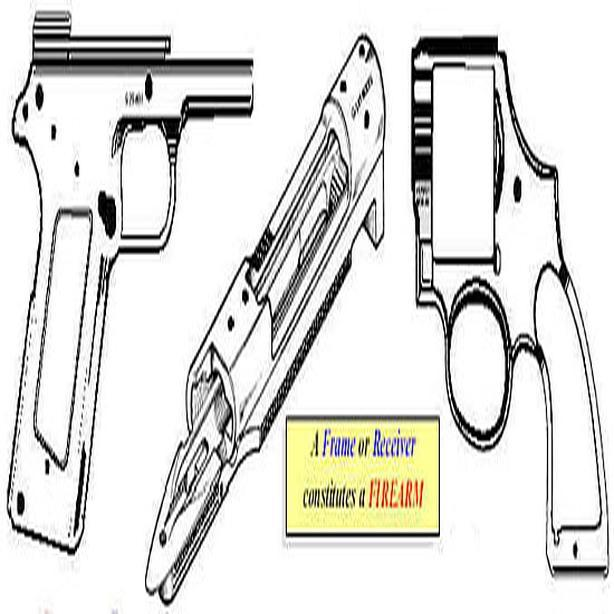Firearm: (0, 3, 281, 614)
